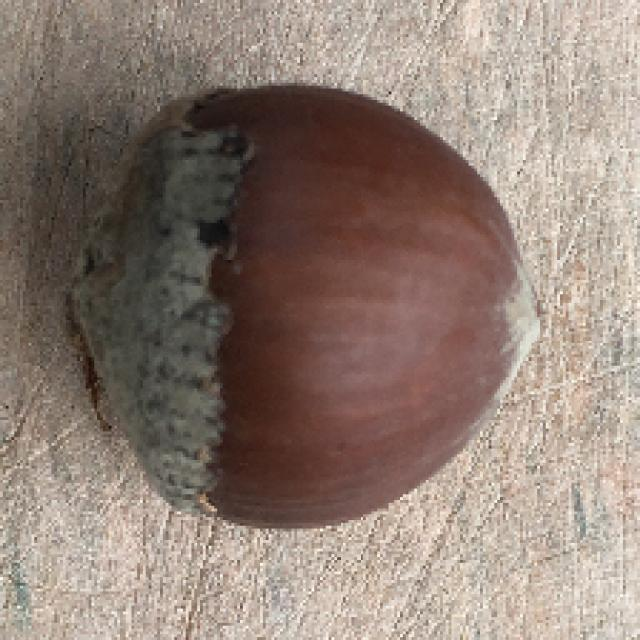damagedHazelnut: (67, 79, 547, 536)
